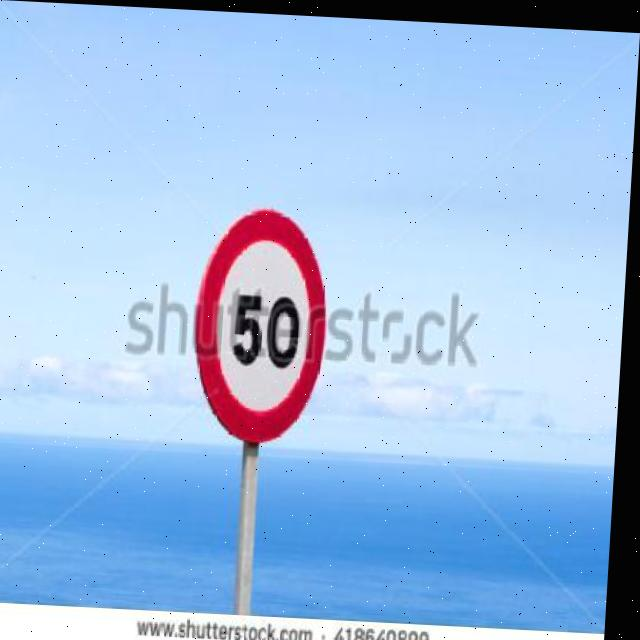Speed limit 50: (190, 199, 340, 446)
